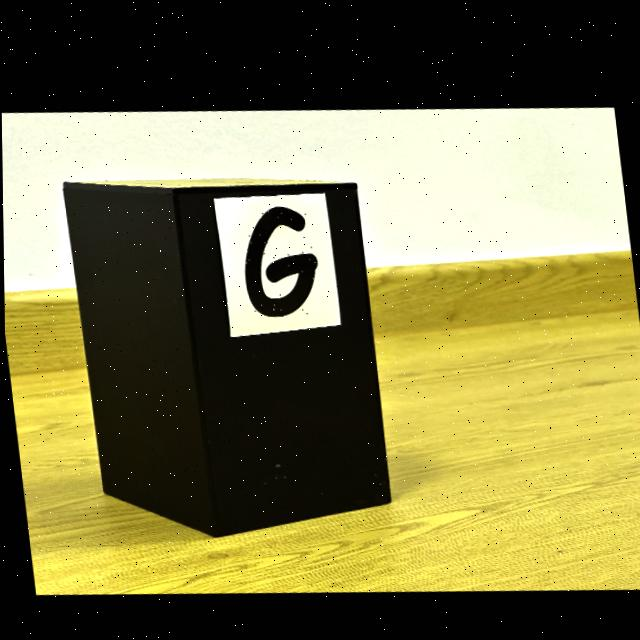G: (244, 200, 316, 311)
